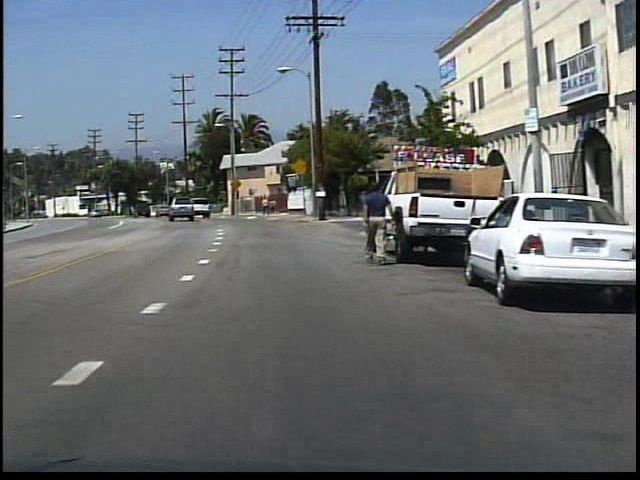person: (355, 179, 398, 268), (268, 196, 279, 215), (260, 194, 269, 217)
